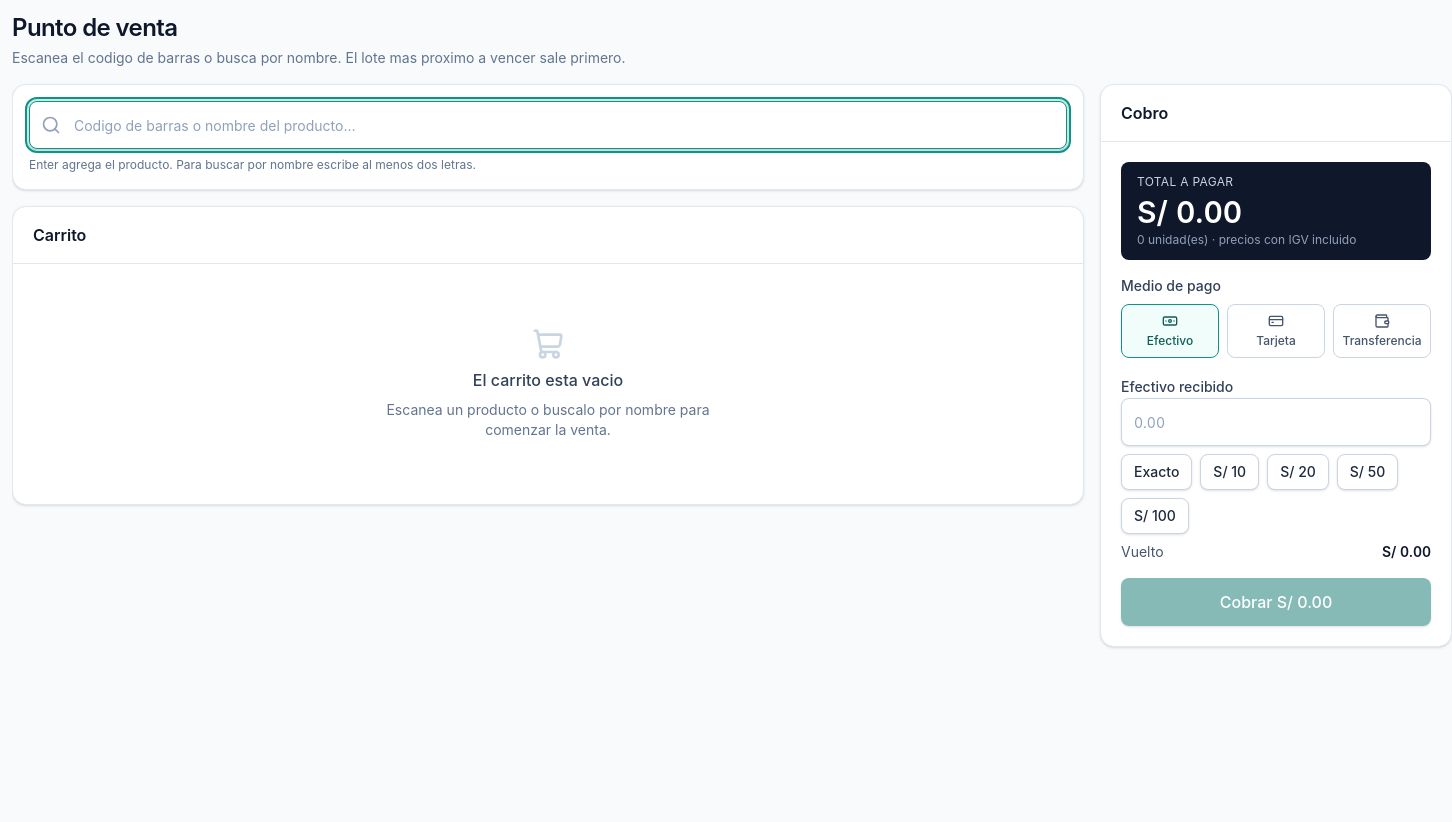
Test: PosPage › no permite agregar un producto sin stock vendible
This screenshot has width=1452, height=822.
Type "ibuprofeno" into the field named "Buscar producto" at [548, 125], box [29,101,1067,149]
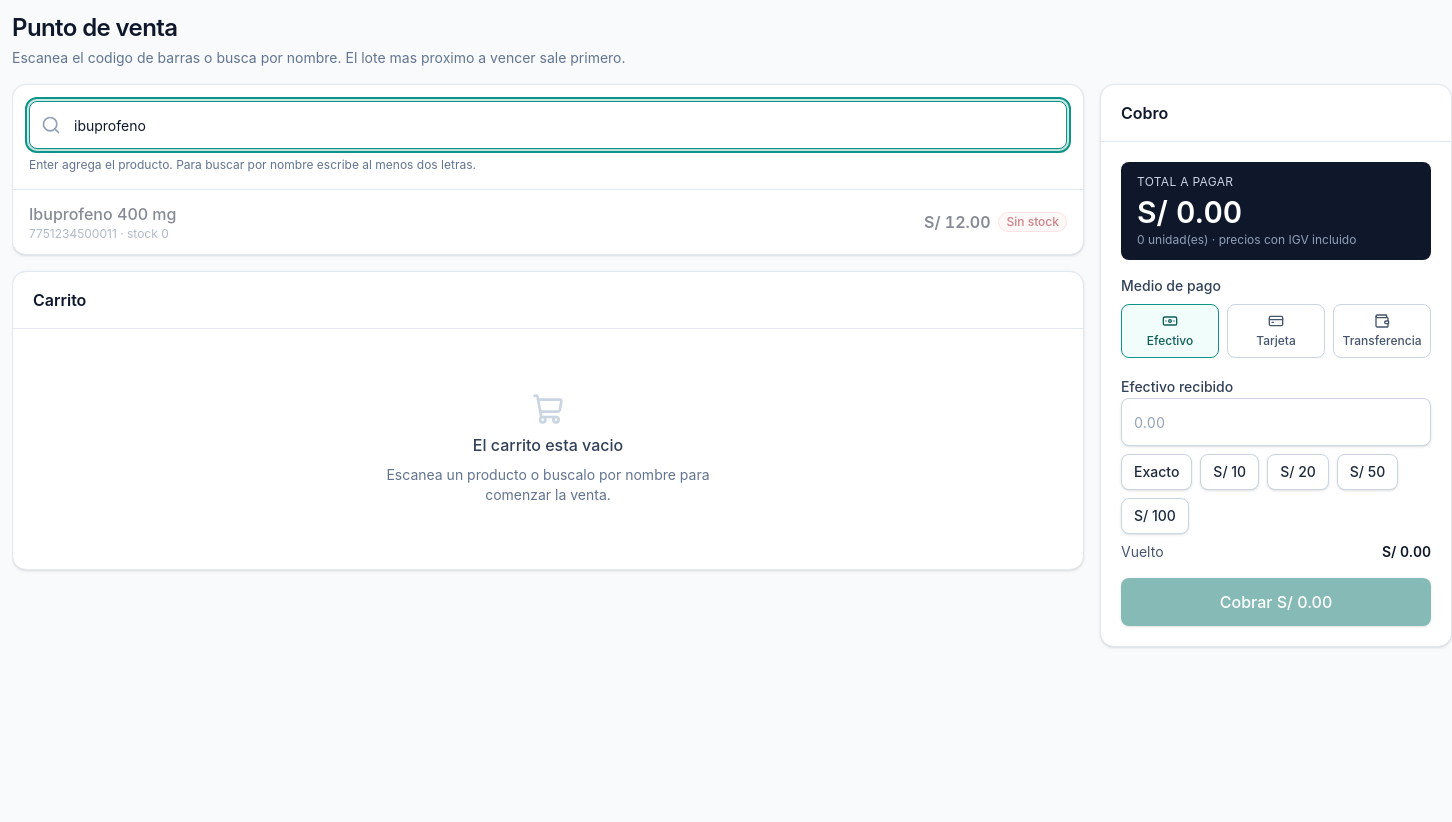
Expected: the button "Ibuprofeno 400 mg 7751234500011 · stock 0 S/ 12.00 Sin stock" is disabled, [13,190,1083,254]
Expected: the text "Sin stock" is shown, [998,212,1067,232]
